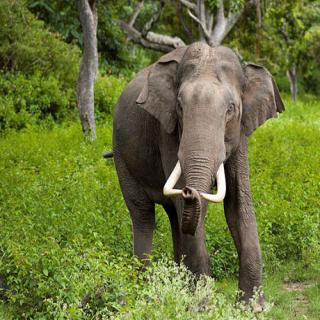Elephant: (105, 41, 286, 310)
